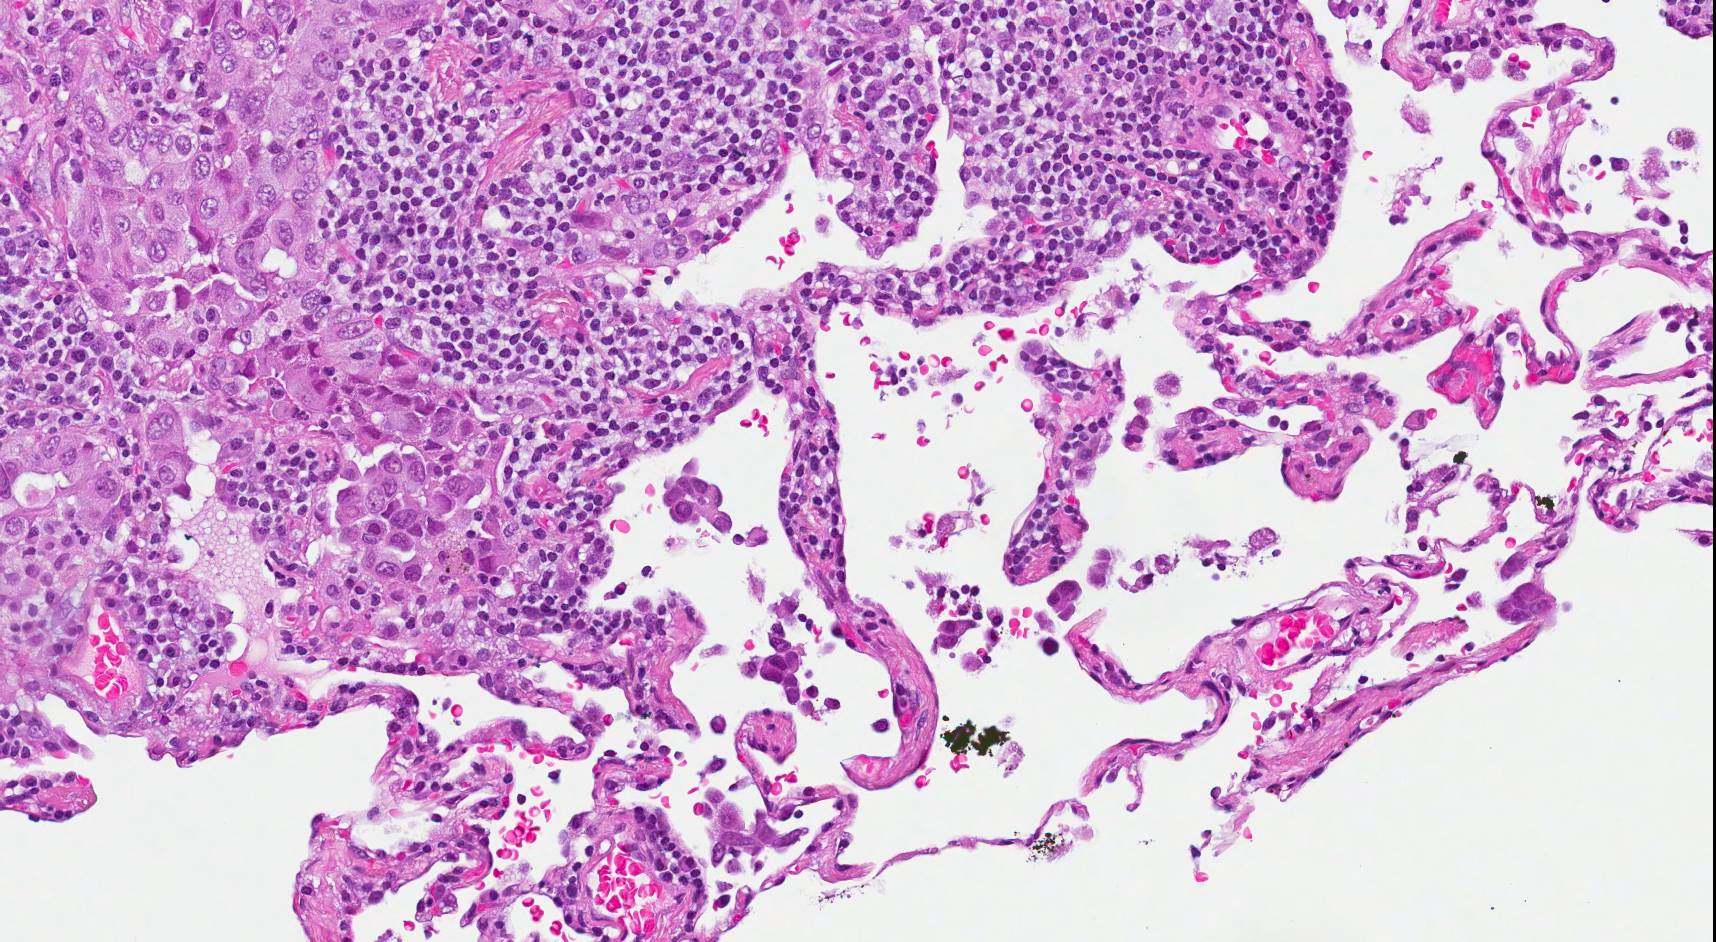stas: (691, 789, 814, 870), (660, 460, 740, 535), (762, 617, 812, 710), (1050, 570, 1084, 626)
